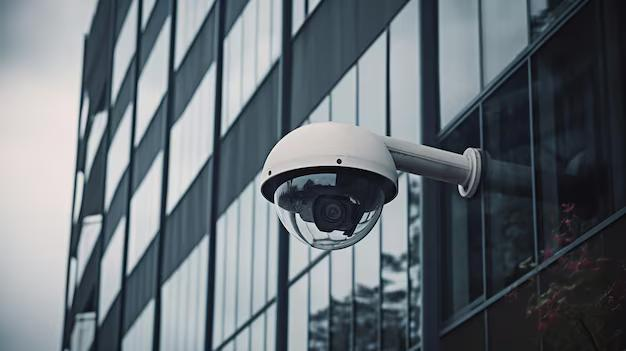360-Cam: (253, 121, 405, 257)
